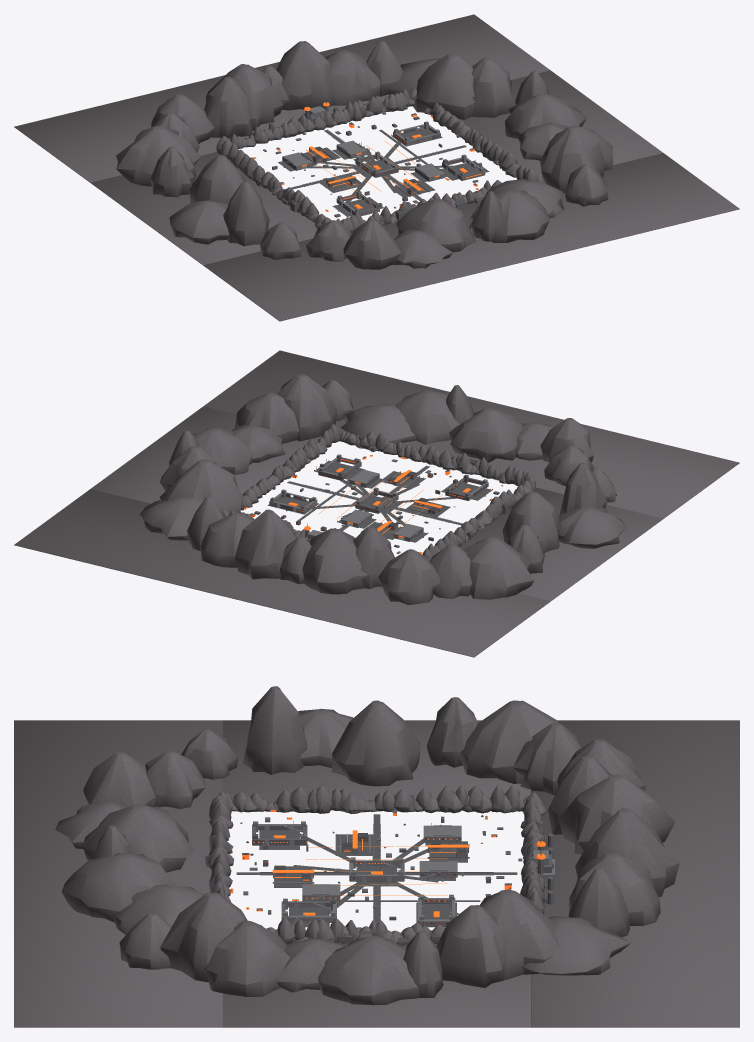
3 renders of one model, top to bottom at view 1: azimuth 30°, elevation 25°; view 2: azimuth 150°, elevation 25°; view 3: azimuth 270°, elevation 25°, orthographic. The views are drawn at different scales.
Parts seen in each view (by area): view 1: HB_z10_LOD0_terrain, HB_z10_LOD0_road, HB_z10_LOD0_wall, HB_z10_LOD0_wall_alt, HB_z10_LOD0_emissive, HB_z10_LOD0_trim; view 2: HB_z10_LOD0_terrain, HB_z10_LOD0_road, HB_z10_LOD0_wall, HB_z10_LOD0_wall_alt, HB_z10_LOD0_emissive, HB_z10_LOD0_trim; view 3: HB_z10_LOD0_terrain, HB_z10_LOD0_road, HB_z10_LOD0_wall, HB_z10_LOD0_wall_alt, HB_z10_LOD0_emissive, HB_z10_LOD0_trim, HB_z10_LOD0_obstacle.
Boxes of the visible parts, x1,y1,x2,y2 form: HB_z10_LOD0_terrain: [14, 14, 739, 321]; HB_z10_LOD0_road: [279, 129, 488, 216]; HB_z10_LOD0_wall: [282, 106, 485, 215]; HB_z10_LOD0_wall_alt: [247, 106, 488, 221]; HB_z10_LOD0_emissive: [253, 102, 481, 211]; HB_z10_LOD0_trim: [247, 99, 486, 220]; HB_z10_LOD0_terrain: [14, 350, 739, 657]; HB_z10_LOD0_road: [269, 461, 492, 542]; HB_z10_LOD0_wall: [269, 454, 488, 541]; HB_z10_LOD0_wall_alt: [244, 446, 516, 553]; HB_z10_LOD0_emissive: [244, 455, 492, 553]; HB_z10_LOD0_trim: [244, 444, 516, 547]; HB_z10_LOD0_terrain: [14, 686, 739, 1027]; HB_z10_LOD0_road: [236, 814, 517, 926]; HB_z10_LOD0_wall: [252, 821, 554, 926]; HB_z10_LOD0_wall_alt: [206, 792, 554, 945]; HB_z10_LOD0_emissive: [230, 810, 545, 919]; HB_z10_LOD0_trim: [205, 791, 547, 945]; HB_z10_LOD0_obstacle: [243, 809, 542, 920].
Size of the model in its own units: 730 by 84.1 by 730.
10 materials, 8 textured.
